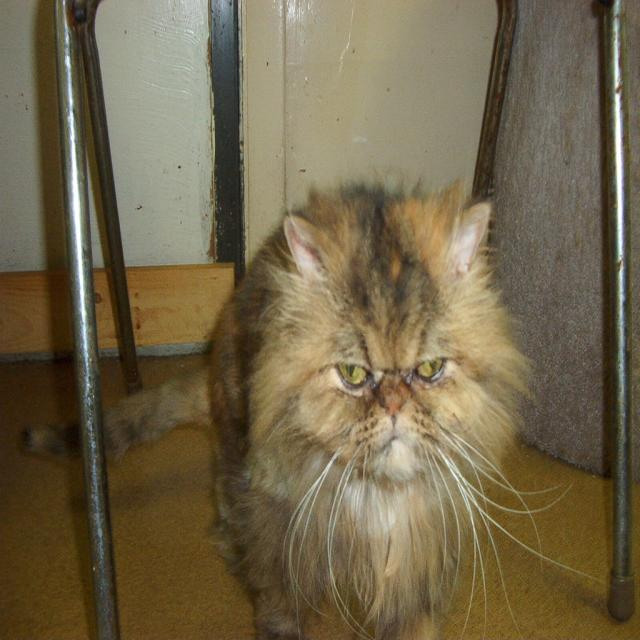Cat: (22, 163, 616, 638)
